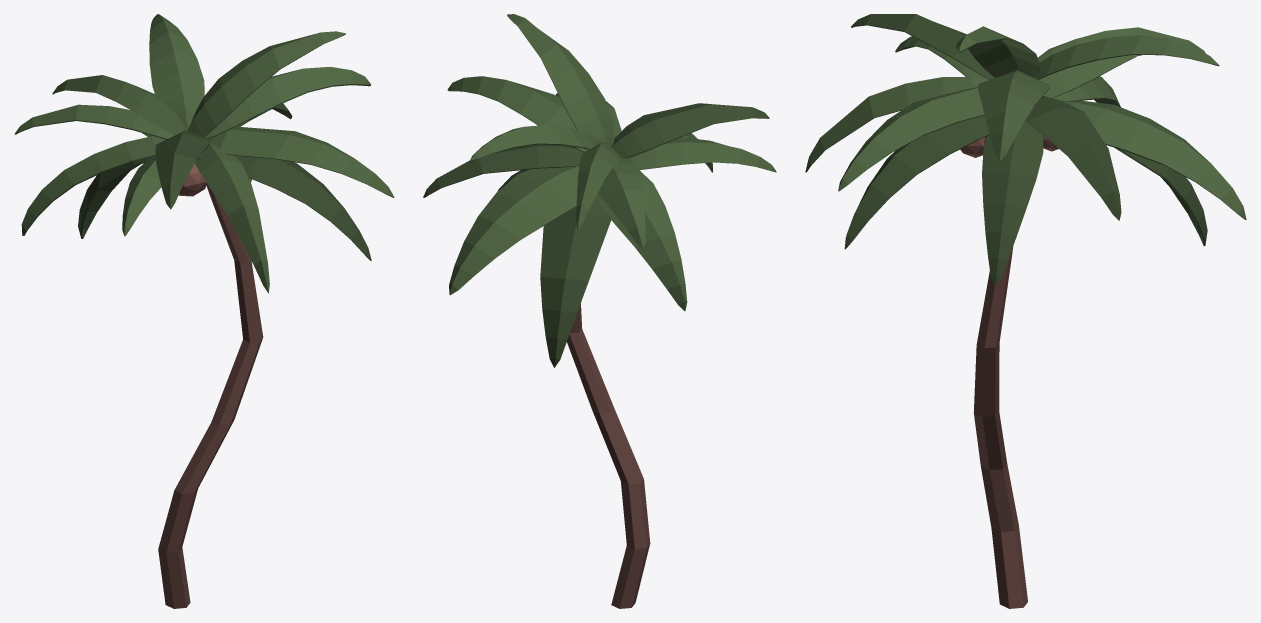
The model's file is PalmTree_4.gltf.
3 renders of one model, left to right at view 1: azimuth 30°, elevation 25°; view 2: azimuth 150°, elevation 25°; view 3: azimuth 270°, elevation 25°, orthographic. The views are drawn at different scales.
Parts seen in each view (by area): view 1: PalmTree_4; view 2: PalmTree_4; view 3: PalmTree_4.
Boxes of the visible parts, box(x1,y1,x2,y2) form: PalmTree_4: box(14, 14, 394, 608); PalmTree_4: box(423, 14, 776, 608); PalmTree_4: box(805, 14, 1246, 608).
Bounding box in the file's own units: 1.81 × 3.25 × 2.05.
